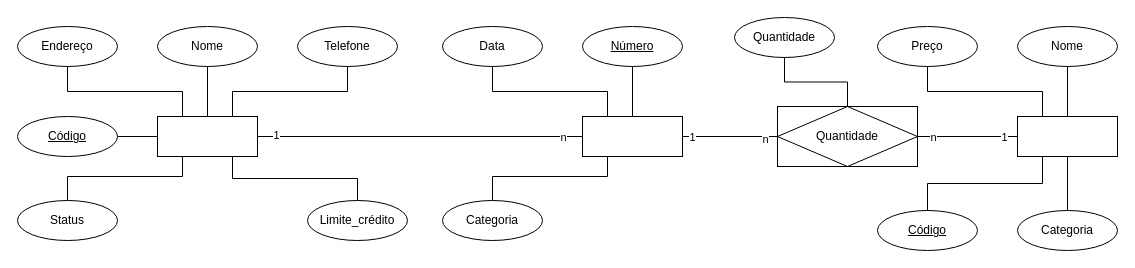
Image size: 1135x268. Some labels were removed from this diagram. The centre of each missing label's shape, as x and y in pixels:
"Cliente" belongs at point (207, 136).
"Pedidos" belongs at point (632, 136).
"Produto" belongs at point (1067, 136).
